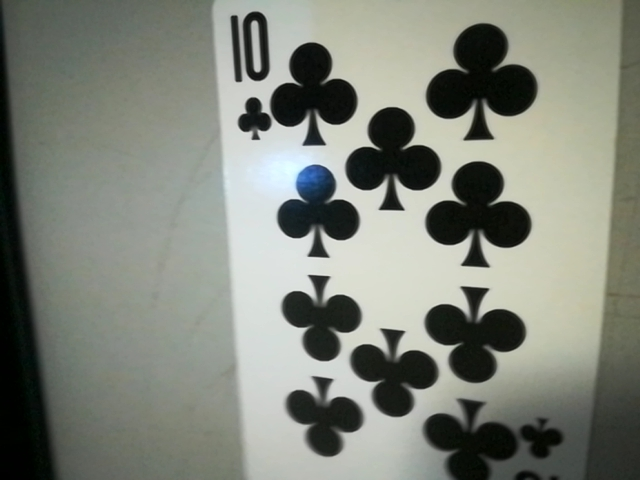mh 10: (216, 0, 280, 144)
